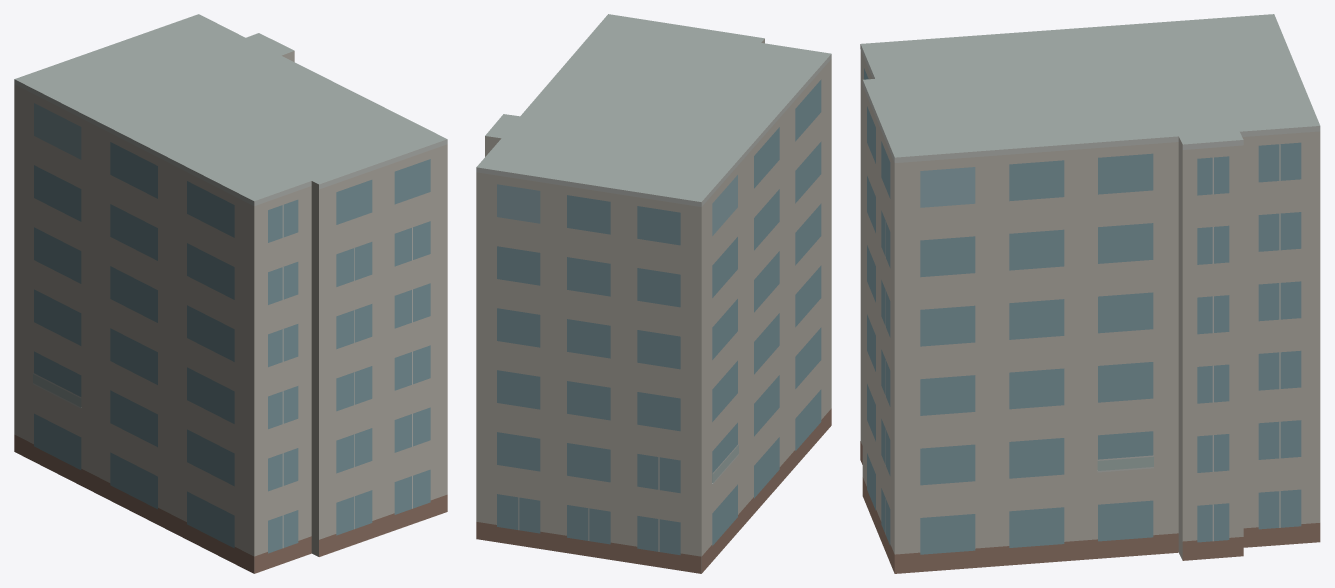
The model's file is survey-upis-32724617.glb.
3 renders of one model, left to right at view 1: azimuth 30°, elevation 25°; view 2: azimuth 150°, elevation 25°; view 3: azimuth 270°, elevation 25°, orthographic. The views are drawn at different scales.
Parts seen in each view (by area): view 1: survey-upis-32724617.tmp; view 2: survey-upis-32724617.tmp; view 3: survey-upis-32724617.tmp.
Part boxes in pixels (<box>): survey-upis-32724617.tmp: <box>14,14,447,573</box>; survey-upis-32724617.tmp: <box>476,14,831,573</box>; survey-upis-32724617.tmp: <box>860,14,1320,573</box>.
Size of the model in its own units: 13.55 by 18.3 by 18.33.
